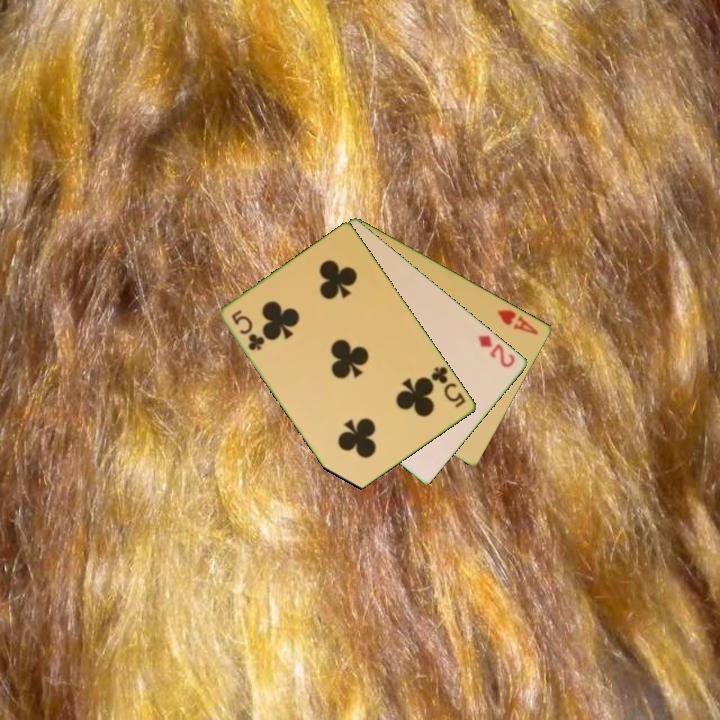2d: (475, 331, 518, 371)
5c: (428, 363, 469, 411), (228, 306, 268, 354)
Ah: (494, 306, 541, 338)
